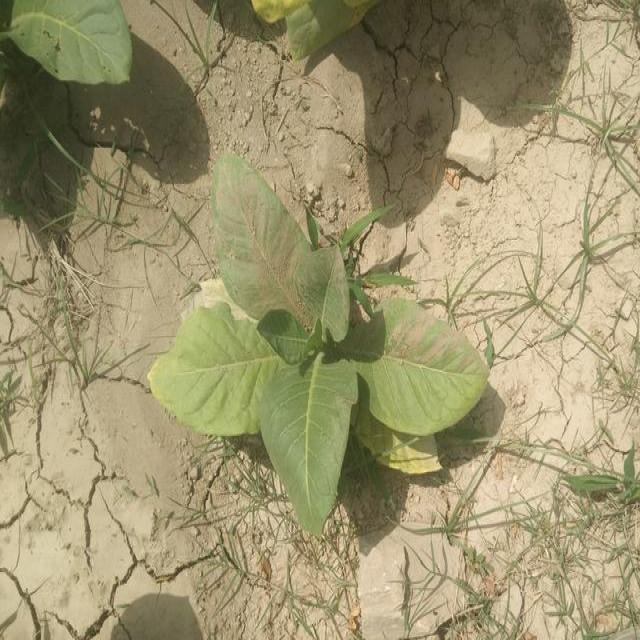crop: (156, 152, 487, 538), (13, 0, 138, 79)
